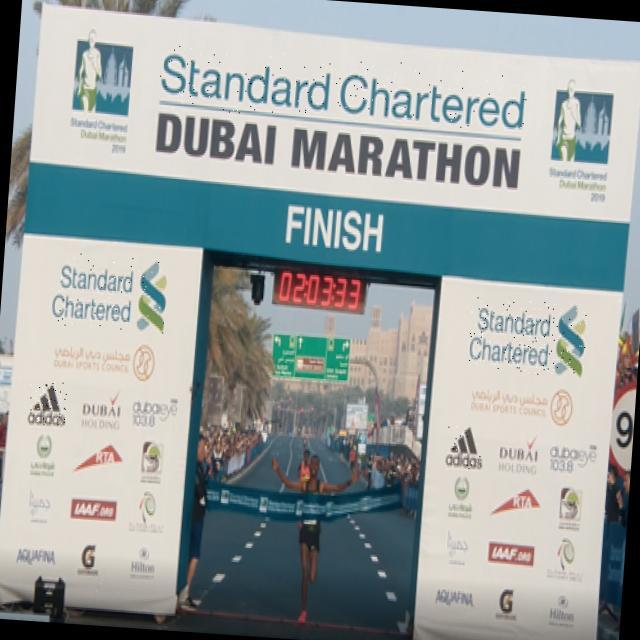Adidas: (444, 423, 486, 472), (26, 380, 67, 427)
Standard Chartered: (157, 44, 528, 133), (467, 297, 588, 379), (50, 251, 169, 334)
